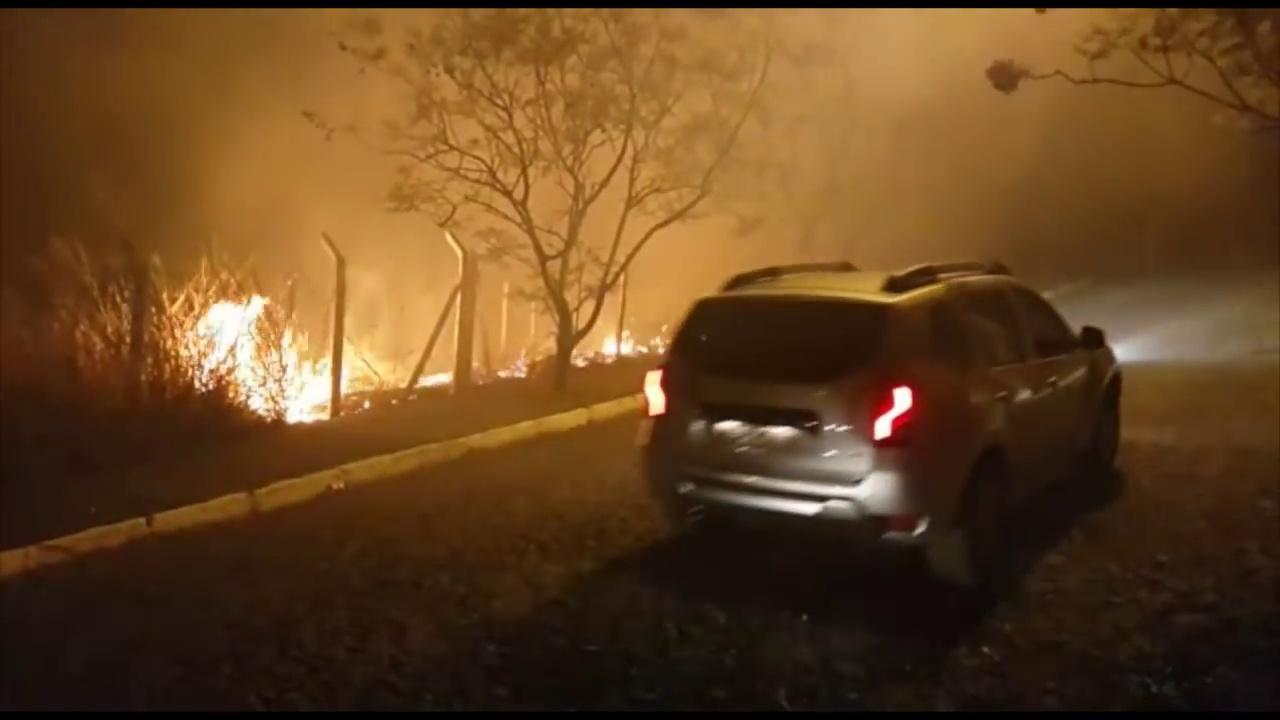fire: (180, 288, 368, 423), (605, 325, 651, 362), (411, 370, 454, 391)
